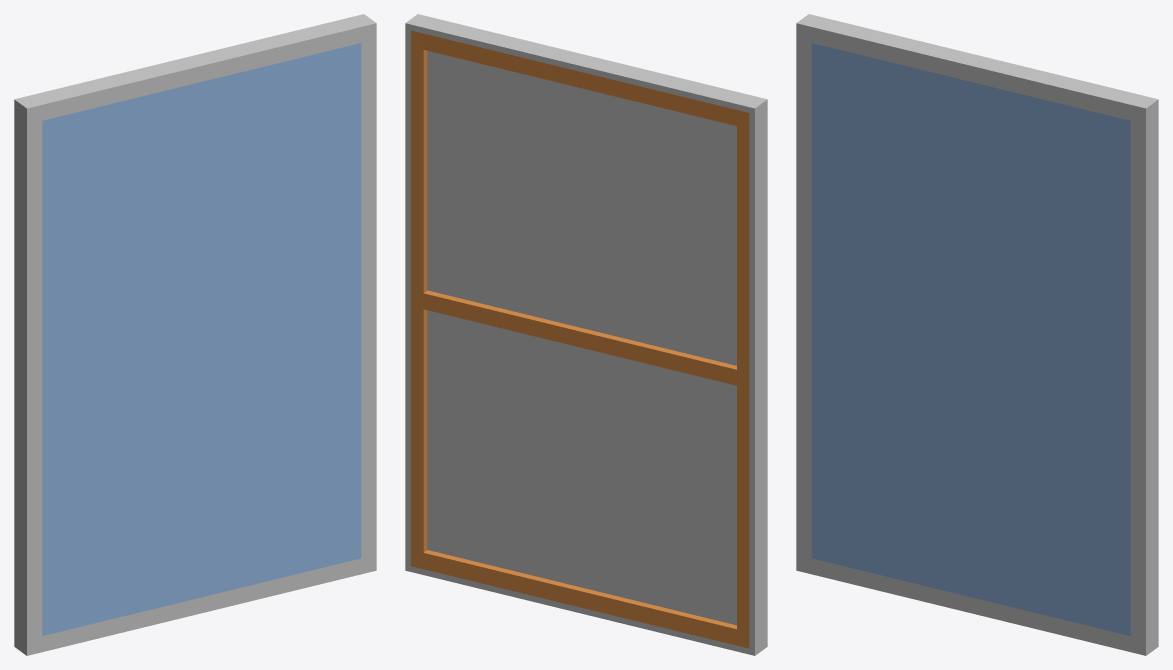
The model's file is canvasWithUVWrap.fbx.
3 views of the same model, side by side, from view 1: azimuth 30°, elevation 25°; view 2: azimuth 150°, elevation 25°; view 3: azimuth 330°, elevation 25° (orthographic).
Parts seen in each view (by area): view 1: Canvas; view 2: Canvas; view 3: Canvas.
Part boxes in pixels (<box>): Canvas: <box>14,14,376,655</box>; Canvas: <box>405,14,767,655</box>; Canvas: <box>796,14,1158,655</box>.
Bounding box in the file's own units: 62.49 × 3.9 × 93.45.
